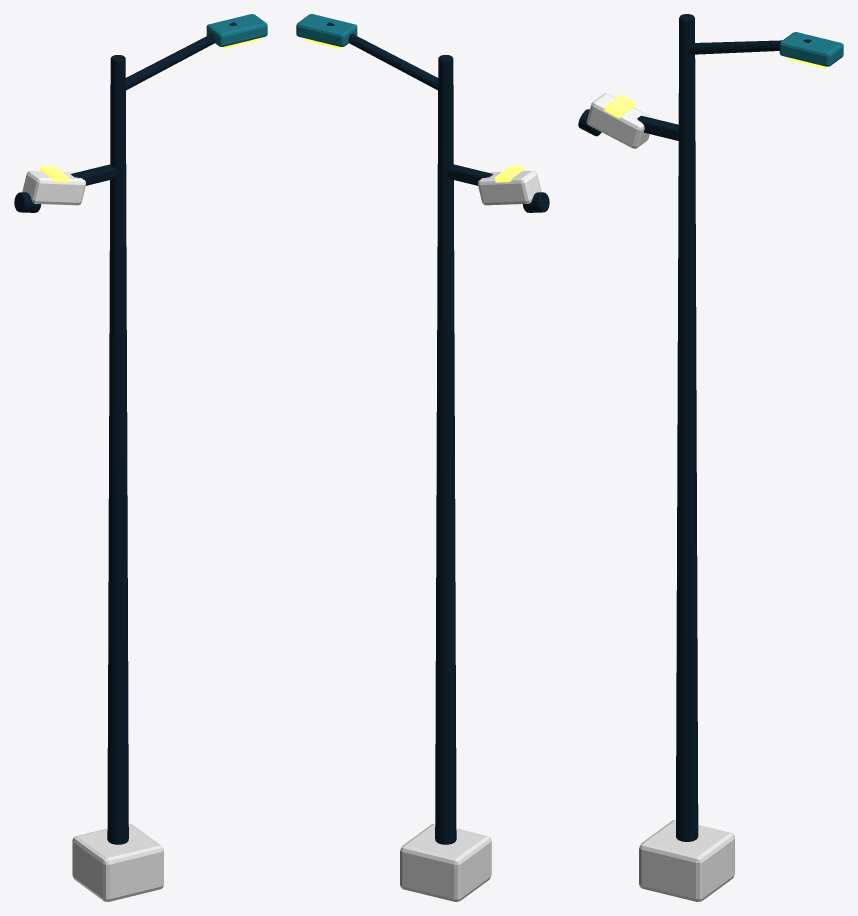
File: cctv_pole.glb
3 views of the same model, side by side, from view 1: azimuth 30°, elevation 25°; view 2: azimuth 150°, elevation 25°; view 3: azimuth 330°, elevation 25° (orthographic). The views are drawn at different scales.
Visible parts, largest first — view 1: cctv_pole; view 2: cctv_pole; view 3: cctv_pole.
Part boxes in pixels (bbox=[...]): cctv_pole: bbox=[14, 14, 267, 901]; cctv_pole: bbox=[296, 14, 549, 901]; cctv_pole: bbox=[578, 14, 843, 901].
Size of the model in its own units: 2.21 by 7.23 by 0.55.
